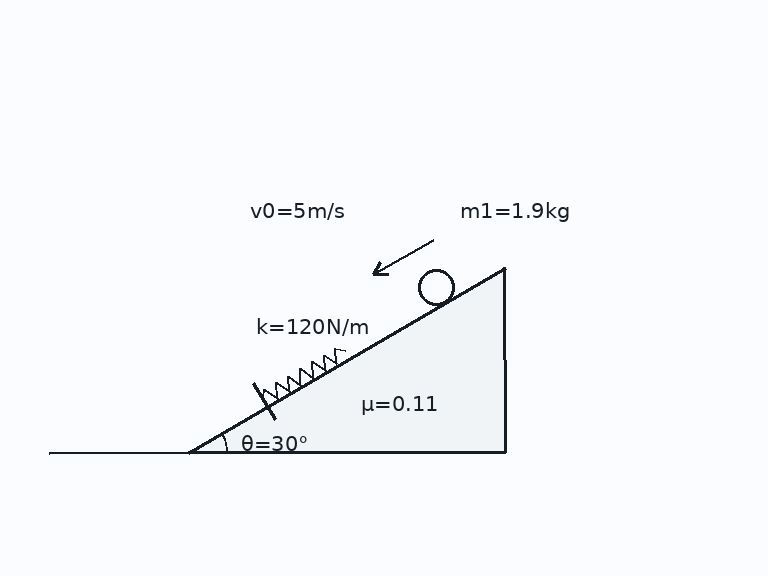ball: (416, 267, 456, 307)
ramp: (185, 266, 507, 454)
spring: (260, 346, 347, 400)
